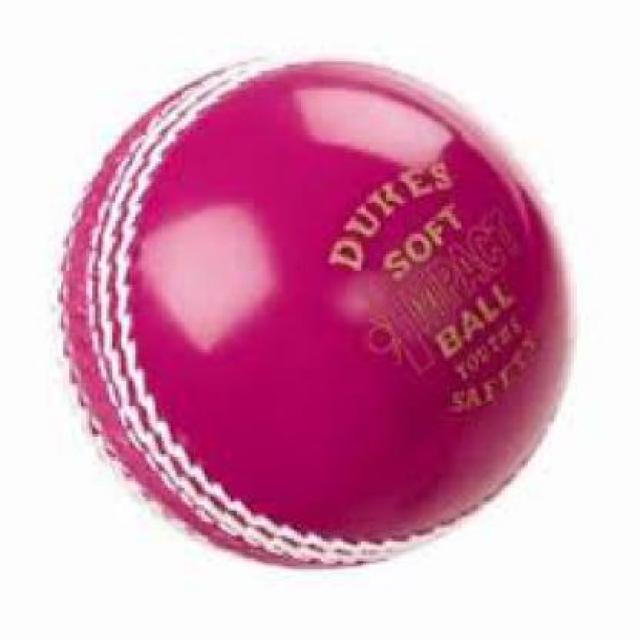ball: (31, 32, 602, 586)
